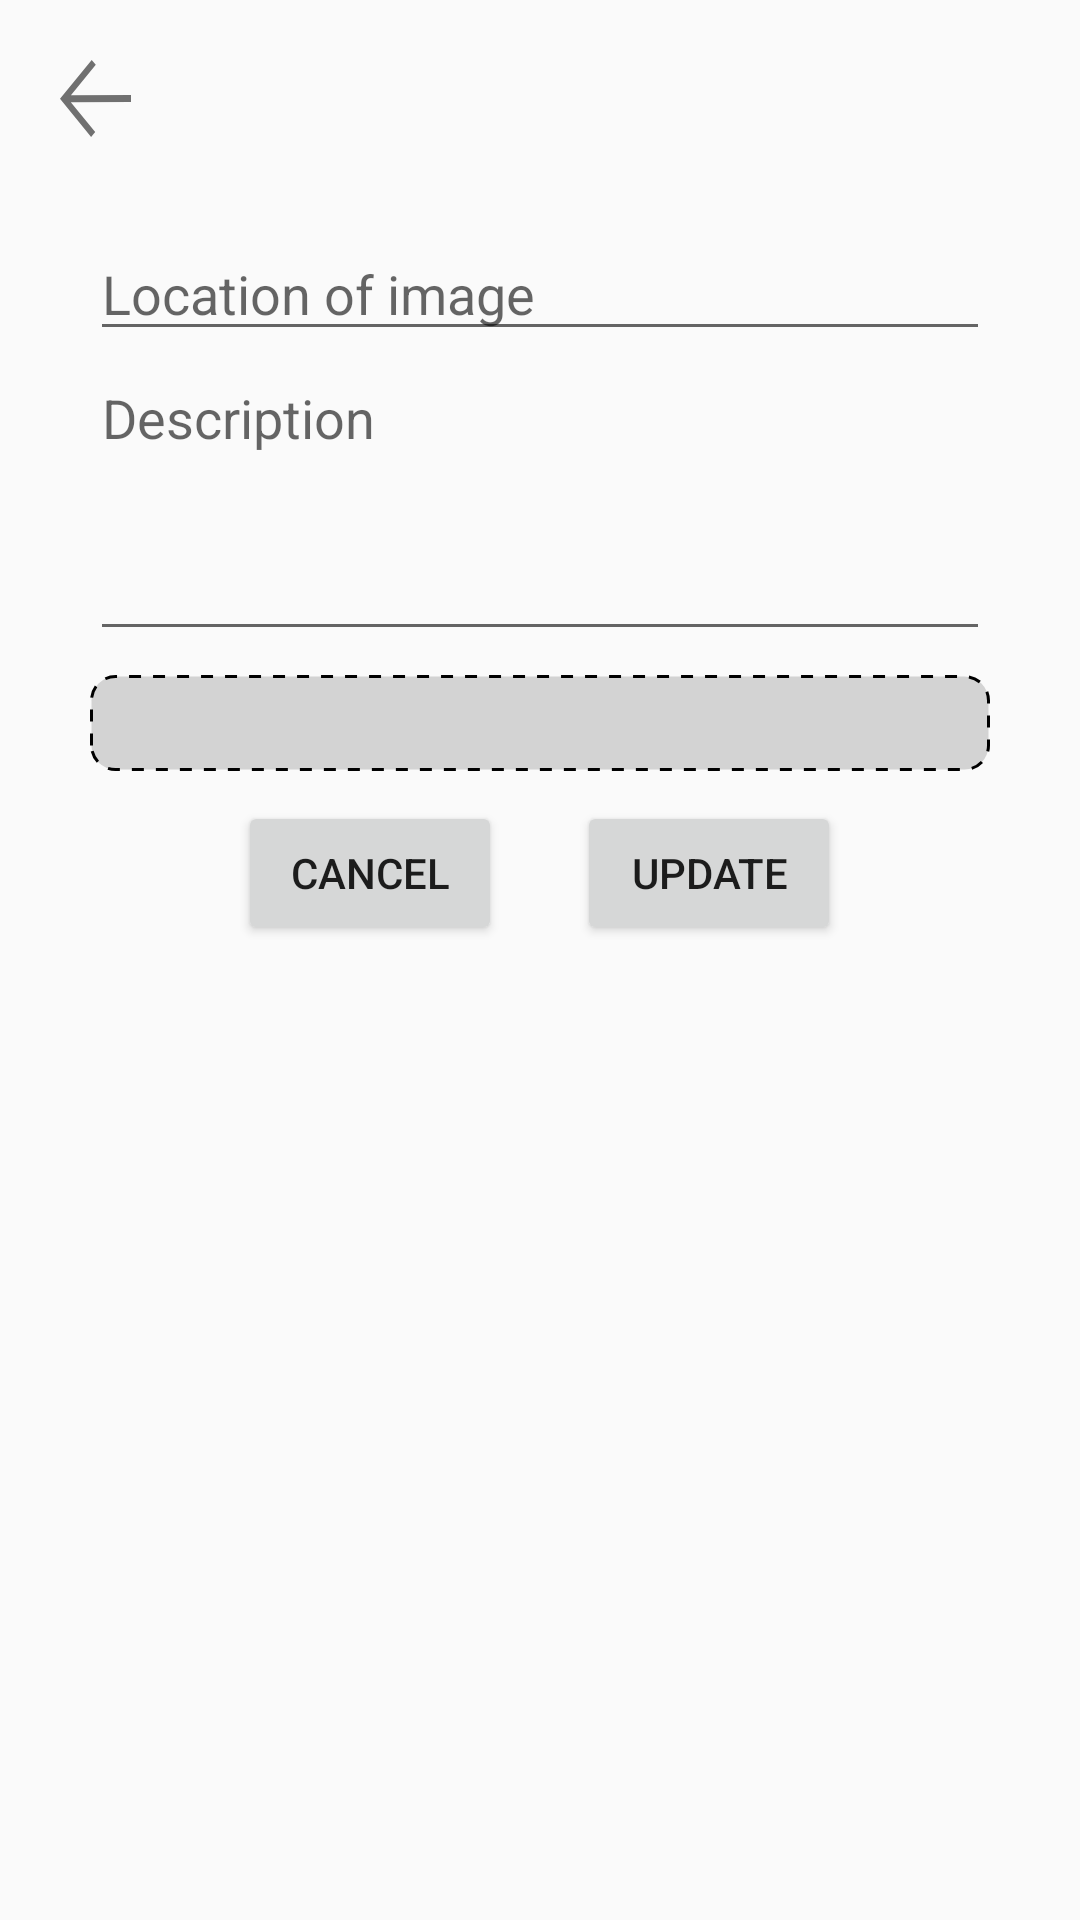

Icon bounding boxes for this 1080*1920 phone screenshot, format (x1, y1, x2, y2):
back: (60, 60, 131, 137)
